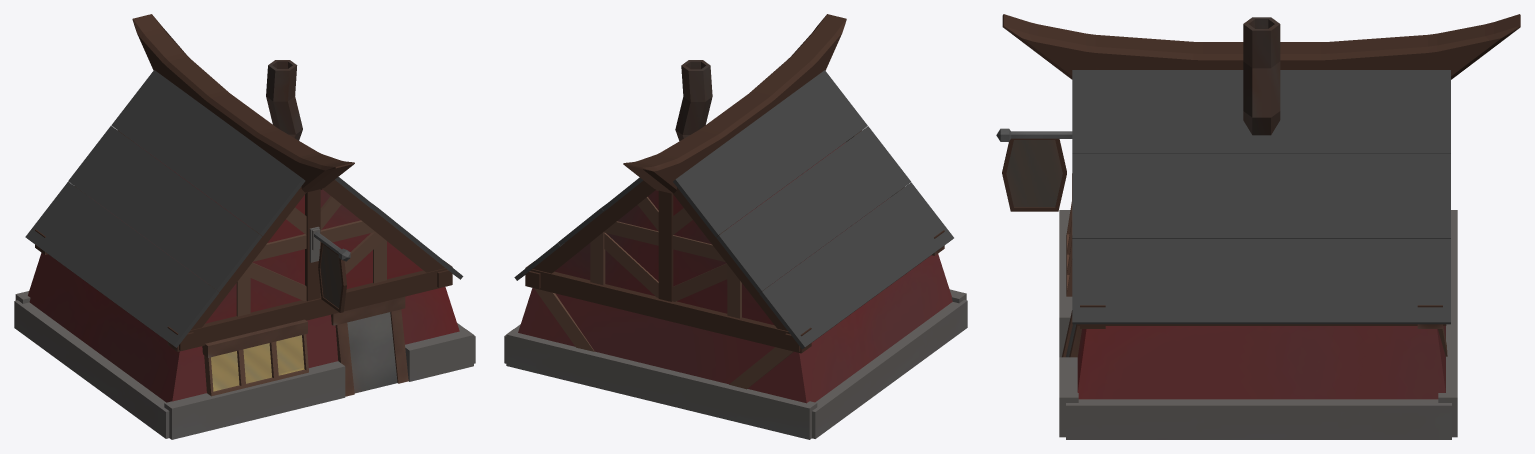
The model's file is inn.glb.
3 renders of one model, left to right at view 1: azimuth 30°, elevation 25°; view 2: azimuth 150°, elevation 25°; view 3: azimuth 270°, elevation 25°, orthographic. The views are drawn at different scales.
Parts seen in each view (by area): view 1: Object_2; view 2: Object_2; view 3: Object_2.
Part boxes in pixels (bbox=[...]): Object_2: bbox=[14, 14, 475, 439]; Object_2: bbox=[504, 14, 967, 439]; Object_2: bbox=[996, 14, 1520, 439].
Bounding box in the file's own units: 7.2 × 6 × 8.29.
Materials: 1 (1 with a texture image).
